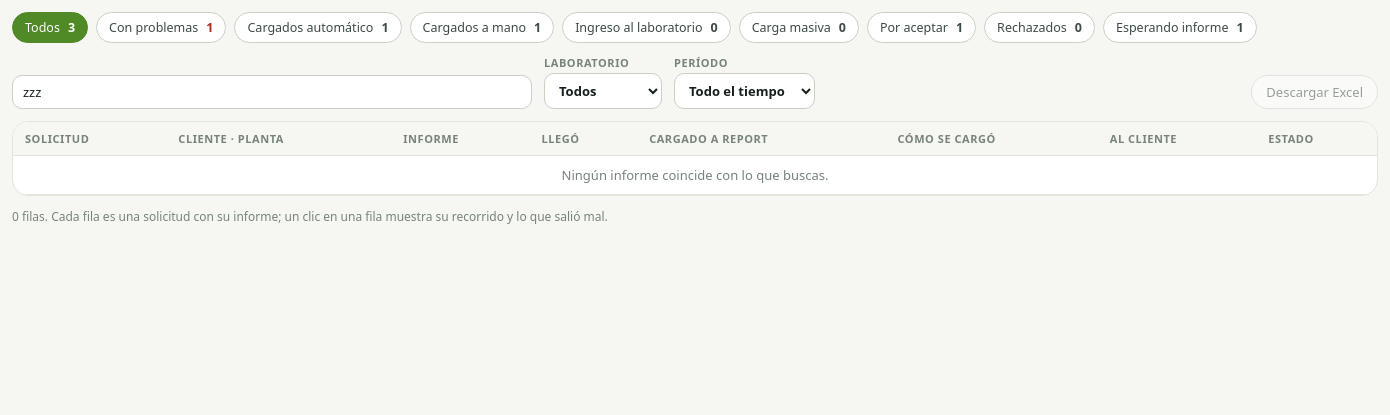
Test case: RegistroInformes › el buscador encuentra por cliente
This screenshot has width=1390, height=415.
expect the text "Ningún informe coincide con lo que buscas." is shown: met, box [13,156,1377,194]
Replace the text in the search field named "Buscar informes" with "agricola" at [272, 92], box [12,75,532,109]
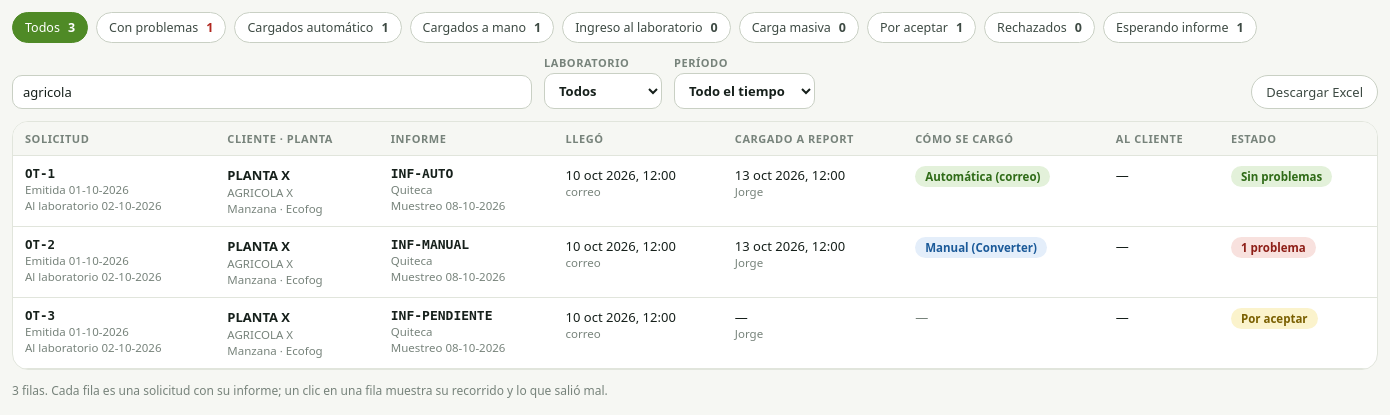
expect the text "INF-AUTO" is shown: met, box [391,166,453,181]
